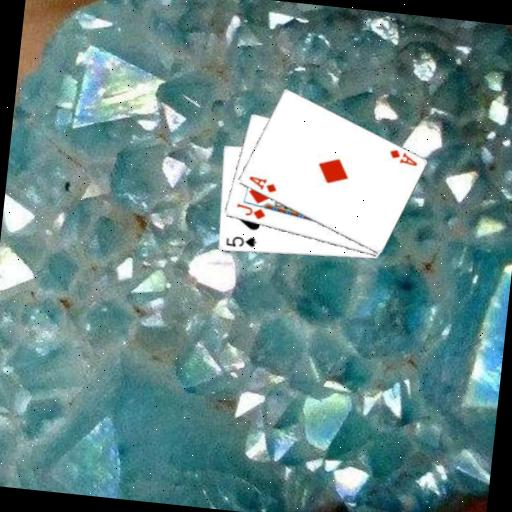5S: (222, 232, 258, 251)
AD: (245, 173, 279, 195), (385, 146, 419, 168)
JD: (232, 200, 268, 222)
